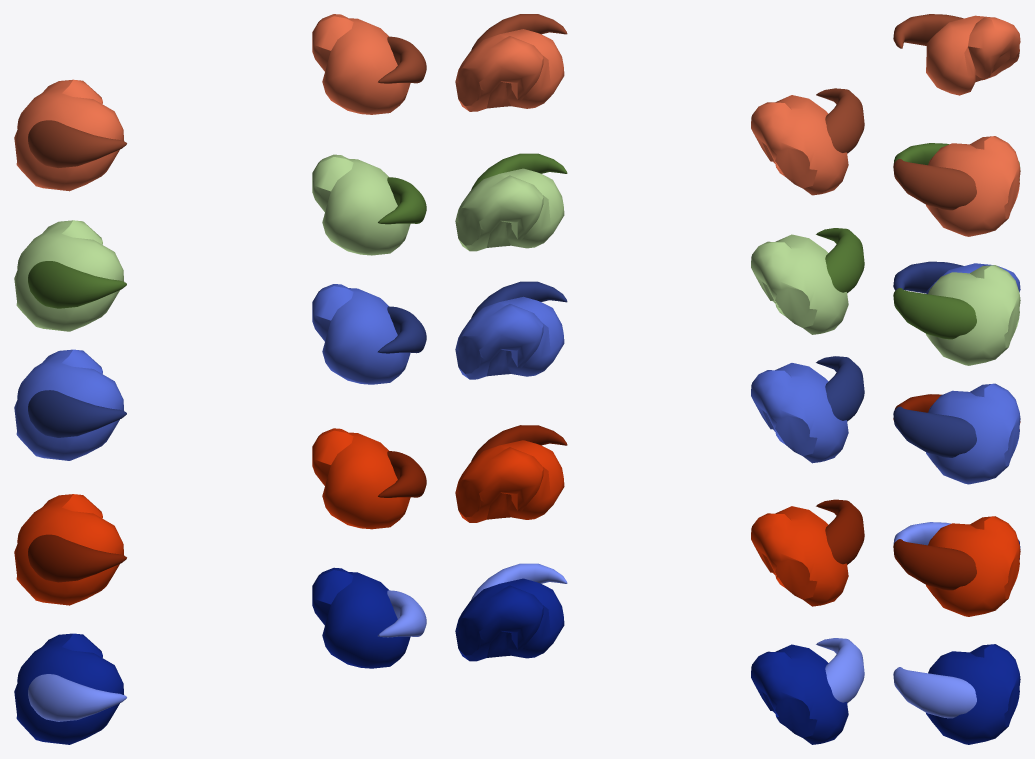
File: HornPunch.fbx
3 renders of one model, left to right at view 1: azimuth 30°, elevation 25°; view 2: azimuth 150°, elevation 25°; view 3: azimuth 270°, elevation 25°, orthographic. The views are drawn at different scales.
Parts seen in each view (by area): view 1: R_Punch.026, R_Punch.028, R_Punch.017, R_Punch.022, R_Punch.024, R_Punch.021, R_Punch.023, R_Punch.027, R_Punch.029, R_Punch.025; view 2: R_Punch.028, R_Punch.017, R_Punch.026, R_Punch.022, R_Punch.024, R_Punch.025, R_Punch.027, R_Punch.021, R_Punch.029, R_Punch.023; view 3: R_Punch.025, R_Punch.027, R_Punch.023, R_Punch.029, R_Punch.021, R_Punch.028, R_Punch.024, R_Punch.017, R_Punch.026, R_Punch.022.
Boxes of the visible parts, bbox=[...] form: R_Punch.026: bbox=[14, 220, 126, 331]; R_Punch.028: bbox=[14, 79, 126, 191]; R_Punch.017: bbox=[14, 633, 126, 744]; R_Punch.022: bbox=[14, 494, 126, 605]; R_Punch.024: bbox=[14, 349, 126, 460]; R_Punch.021: bbox=[312, 567, 426, 668]; R_Punch.023: bbox=[312, 428, 426, 529]; R_Punch.027: bbox=[312, 154, 426, 255]; R_Punch.029: bbox=[312, 14, 426, 114]; R_Punch.025: bbox=[312, 284, 426, 384]; R_Punch.028: bbox=[751, 88, 864, 195]; R_Punch.017: bbox=[751, 638, 864, 744]; R_Punch.026: bbox=[751, 228, 864, 334]; R_Punch.022: bbox=[751, 499, 864, 606]; R_Punch.024: bbox=[751, 356, 864, 463]; R_Punch.025: bbox=[455, 281, 567, 379]; R_Punch.027: bbox=[455, 153, 567, 251]; R_Punch.021: bbox=[455, 563, 567, 661]; R_Punch.029: bbox=[455, 14, 567, 111]; R_Punch.023: bbox=[455, 425, 567, 522]; R_Punch.025: bbox=[893, 383, 1020, 484]; R_Punch.027: bbox=[893, 265, 1020, 365]; R_Punch.023: bbox=[893, 516, 1020, 616]; R_Punch.029: bbox=[893, 136, 1020, 236]; R_Punch.021: bbox=[893, 644, 1020, 744]; R_Punch.028: bbox=[893, 14, 1020, 95]; R_Punch.024: bbox=[893, 261, 1020, 294]; R_Punch.017: bbox=[893, 522, 1020, 559]; R_Punch.026: bbox=[893, 143, 1020, 180]; R_Punch.022: bbox=[893, 394, 1020, 429].
Bounding box in the file's own units: 7.77 × 12.45 × 2.44.
